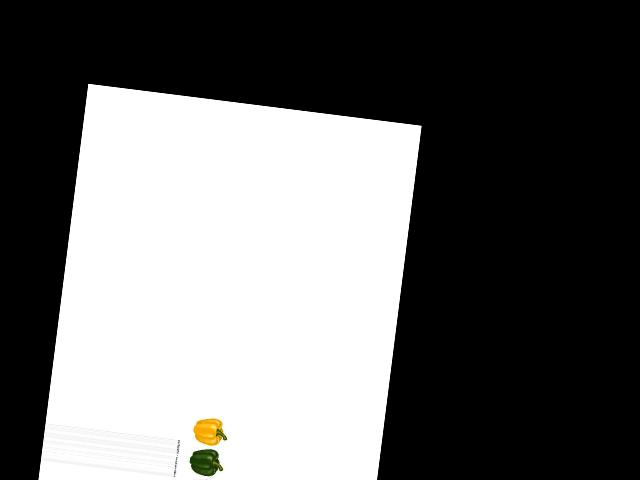bell_pepper: (188, 414, 228, 449)
